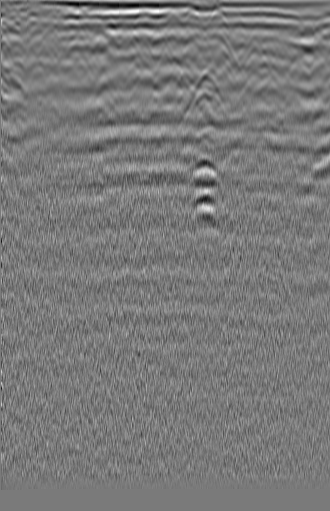가스: (183, 155, 225, 188)
상수: (286, 48, 318, 74)
오수: (2, 32, 34, 70)
우수: (153, 34, 179, 67)
